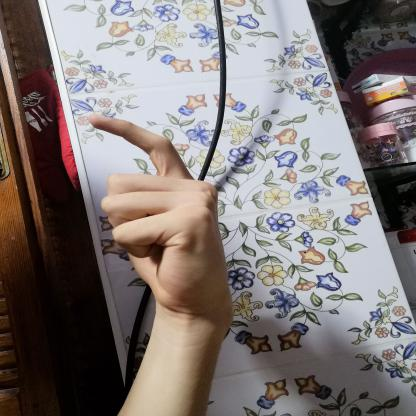RAA: (73, 104, 244, 319)
